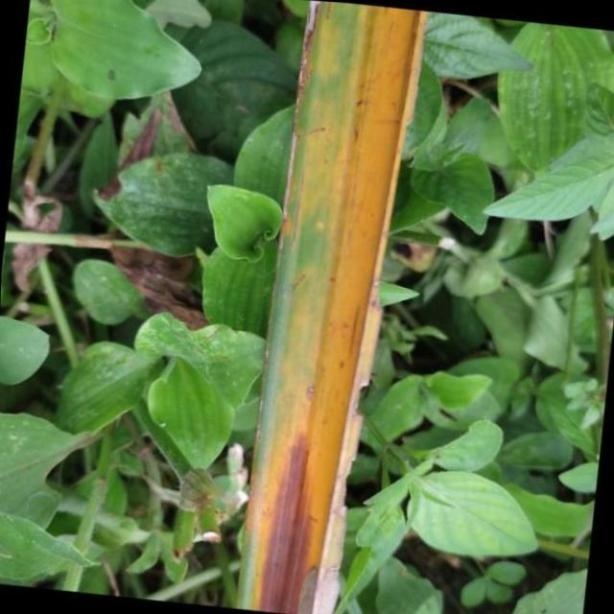Megnesium: (243, 0, 427, 614)
